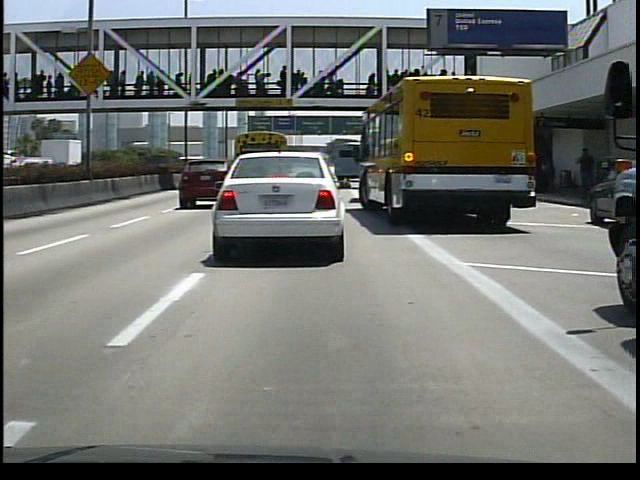person: (572, 145, 602, 207)
